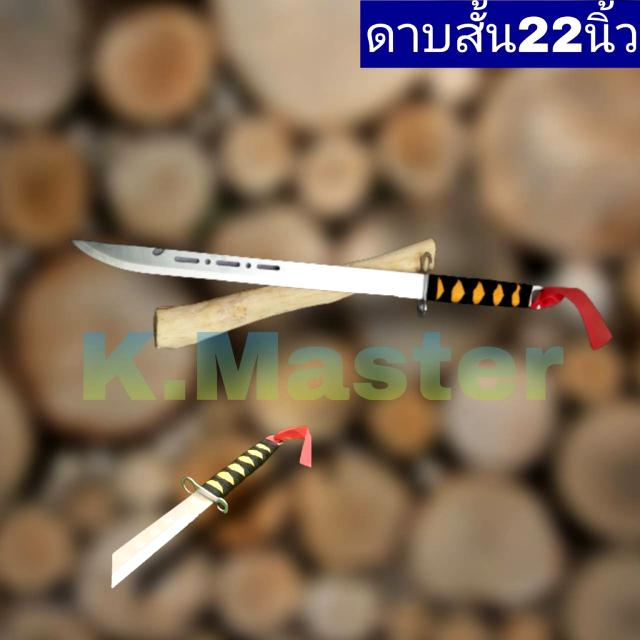long sword: (74, 233, 555, 313)
